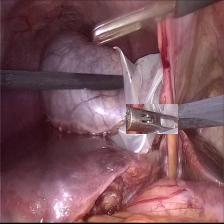Grasper: (90, 3, 168, 47), (126, 104, 178, 134)
Specimen Bag: (110, 44, 168, 166)
